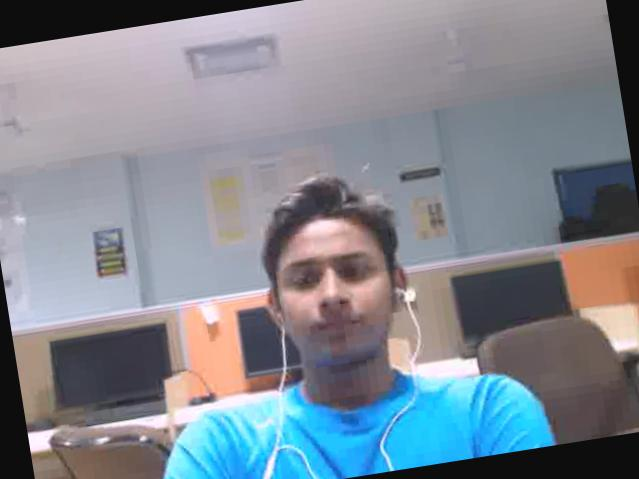bingung: (272, 213, 404, 367)
